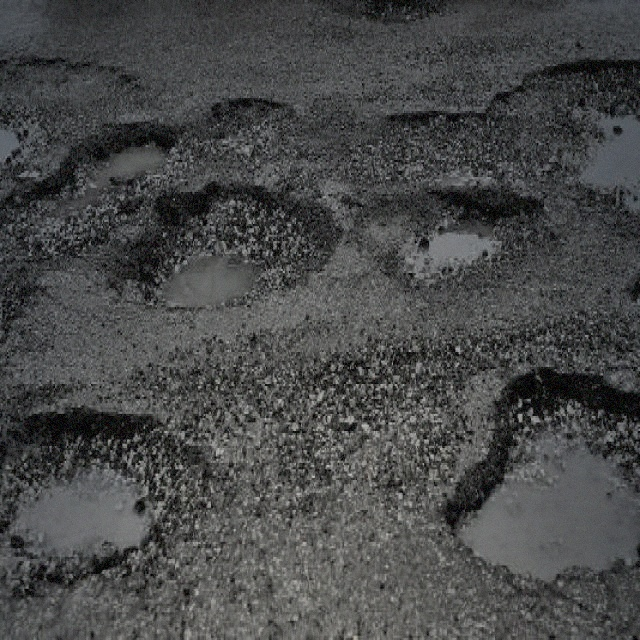pothole: (437, 360, 639, 584), (0, 396, 224, 586), (377, 55, 639, 190), (121, 177, 338, 320), (0, 115, 171, 281), (354, 183, 554, 294), (0, 51, 140, 111), (199, 92, 294, 143)
